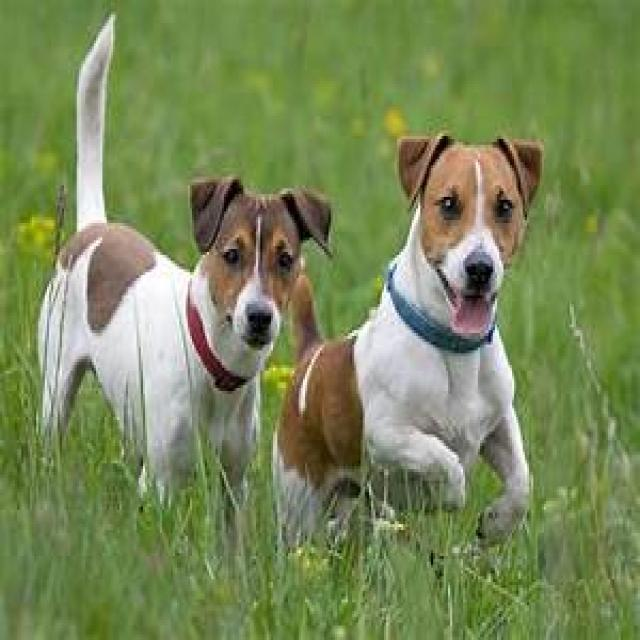dog: (39, 15, 330, 501), (274, 143, 540, 544)
